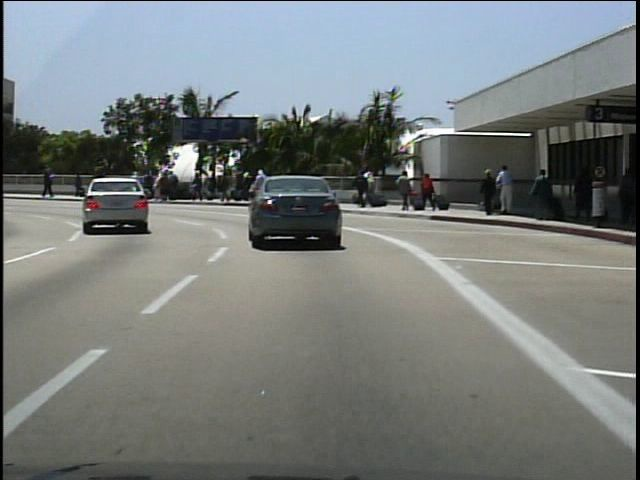person: (529, 165, 556, 224), (613, 163, 635, 227), (570, 161, 592, 222), (479, 168, 500, 221), (499, 163, 519, 217), (396, 169, 416, 214), (420, 171, 439, 213), (354, 170, 372, 211), (89, 167, 111, 197), (41, 165, 58, 200), (74, 169, 90, 198)
